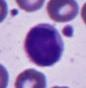L: (22, 23, 64, 68)
